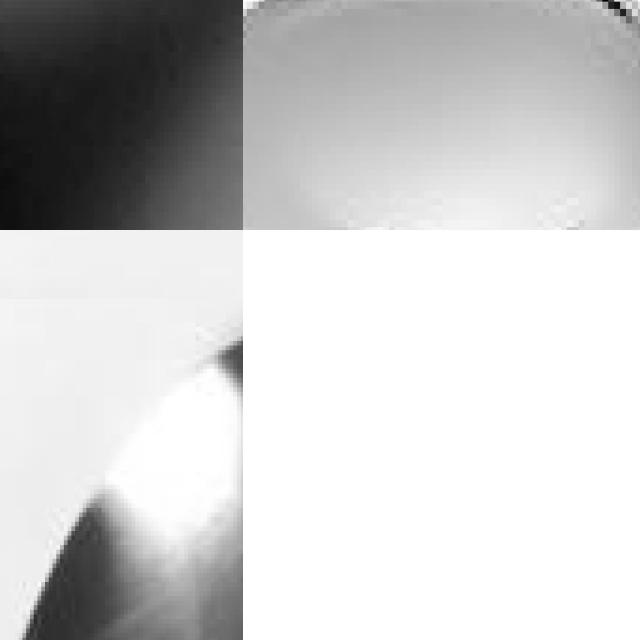spoons: (243, 0, 640, 230), (0, 298, 243, 640), (0, 0, 243, 230)
